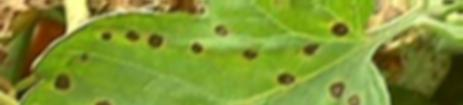Tomato leaf bacterial spot: (0, 0, 408, 105)
